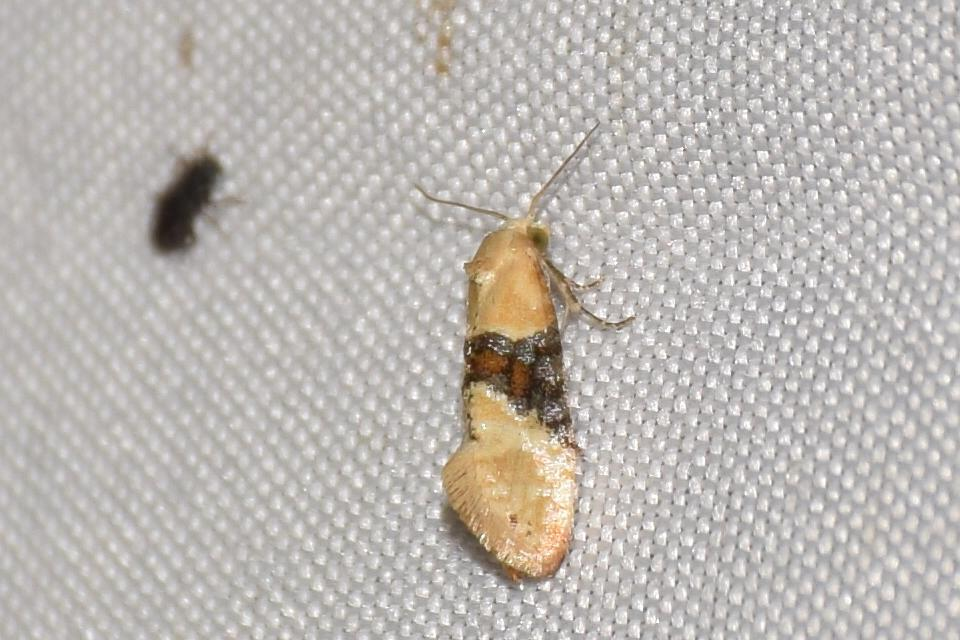Eupoecilia Ambiguella: (409, 116, 637, 584)
